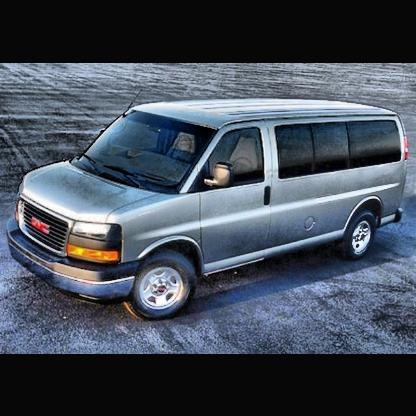GMC Savana Van 2012: (16, 90, 411, 315)
